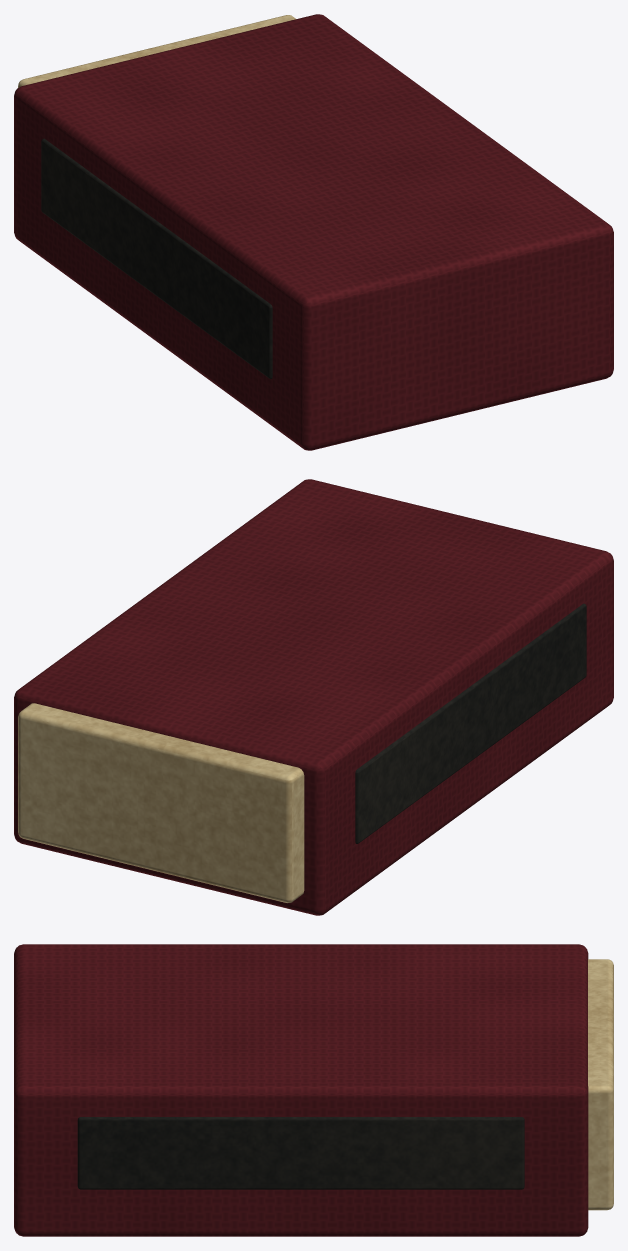
File: Matchbox.fbx
3 renders of one model, top to bottom at view 1: azimuth 30°, elevation 25°; view 2: azimuth 150°, elevation 25°; view 3: azimuth 270°, elevation 25°, orthographic. The views are drawn at different scales.
Parts seen in each view (by area): view 1: Matchbox_BurgundyFabric, Matchbox_Iron, Matchbox_Paper; view 2: Matchbox_BurgundyFabric, Matchbox_Paper, Matchbox_Iron; view 3: Matchbox_BurgundyFabric, Matchbox_Iron, Matchbox_Paper.
Boxes of the visible parts, <box> form: Matchbox_BurgundyFabric: <box>14,14,613,450</box>; Matchbox_Iron: <box>41,138,272,378</box>; Matchbox_Paper: <box>18,15,296,87</box>; Matchbox_BurgundyFabric: <box>14,479,613,915</box>; Matchbox_Paper: <box>18,703,304,902</box>; Matchbox_Iron: <box>355,603,586,843</box>; Matchbox_BurgundyFabric: <box>14,944,588,1236</box>; Matchbox_Iron: <box>77,1117,524,1189</box>; Matchbox_Paper: <box>588,959,613,1210</box>.
Bounding box in the file's own units: 11.2 × 5.2 × 18.8.
